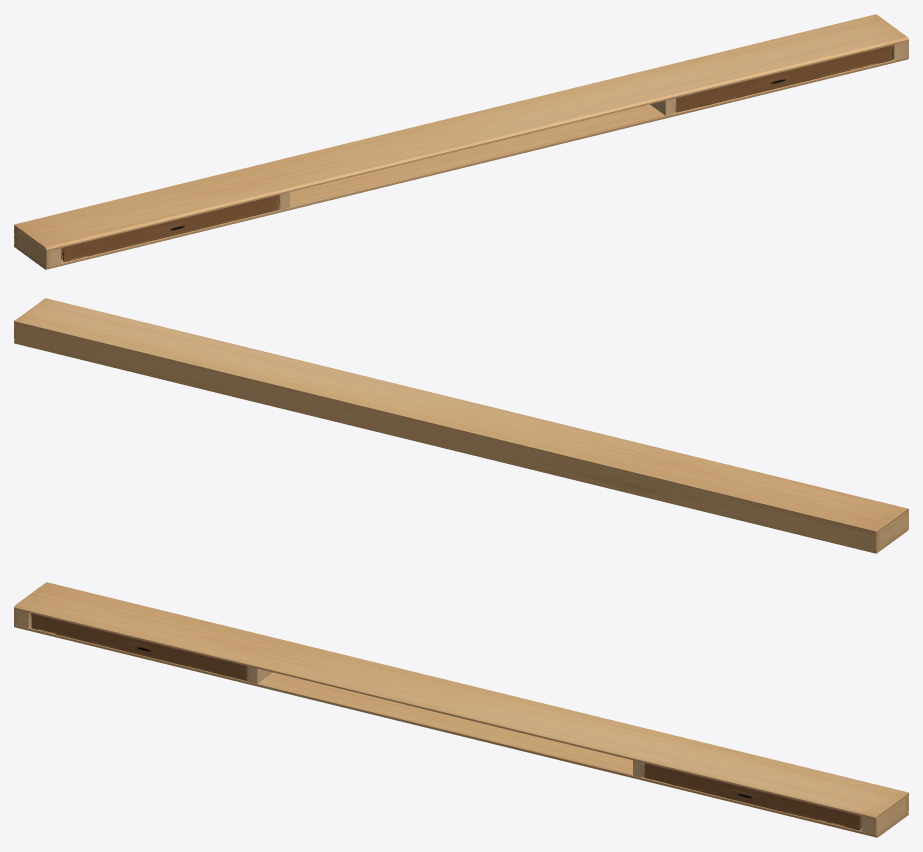
The model's file is front_demarcation_steps.glb.
3 views of the same model, one above another, from view 1: azimuth 30°, elevation 25°; view 2: azimuth 150°, elevation 25°; view 3: azimuth 330°, elevation 25° (orthographic).
Visible parts, largest first — view 1: world; view 2: world; view 3: world.
Part boxes in pixels (<box>): world: <box>14,14,908,269</box>; world: <box>14,298,908,553</box>; world: <box>14,582,908,837</box>.
Bounding box in the file's own units: 6 × 0.15 × 0.4.
Materials: 1 (1 with a texture image).
